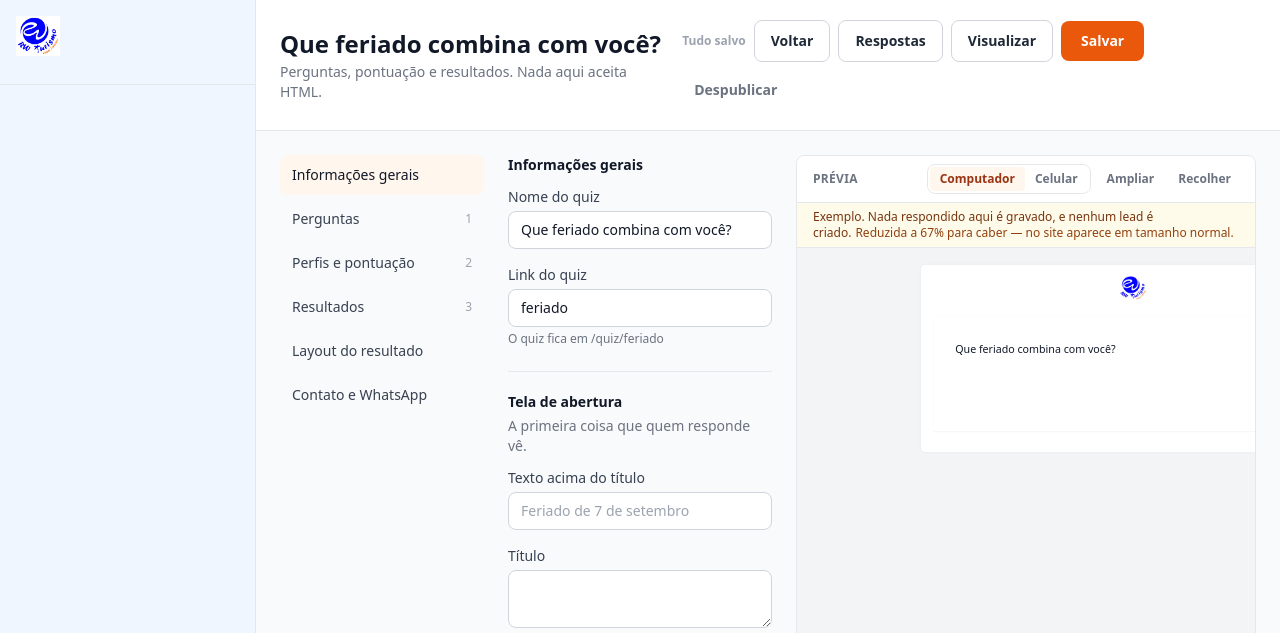
Test case: publicação › quiz publicado com edição pendente avisa que salvar vai ao ar
Expected: the button "Informações gerais" is shown, [280,155,484,195]
Expected: the text "vão ao ar imediatamente" is not shown
Replace the text in the field labelled "Nome do quiz" with "outro" at [640, 230], box [508,211,772,249]
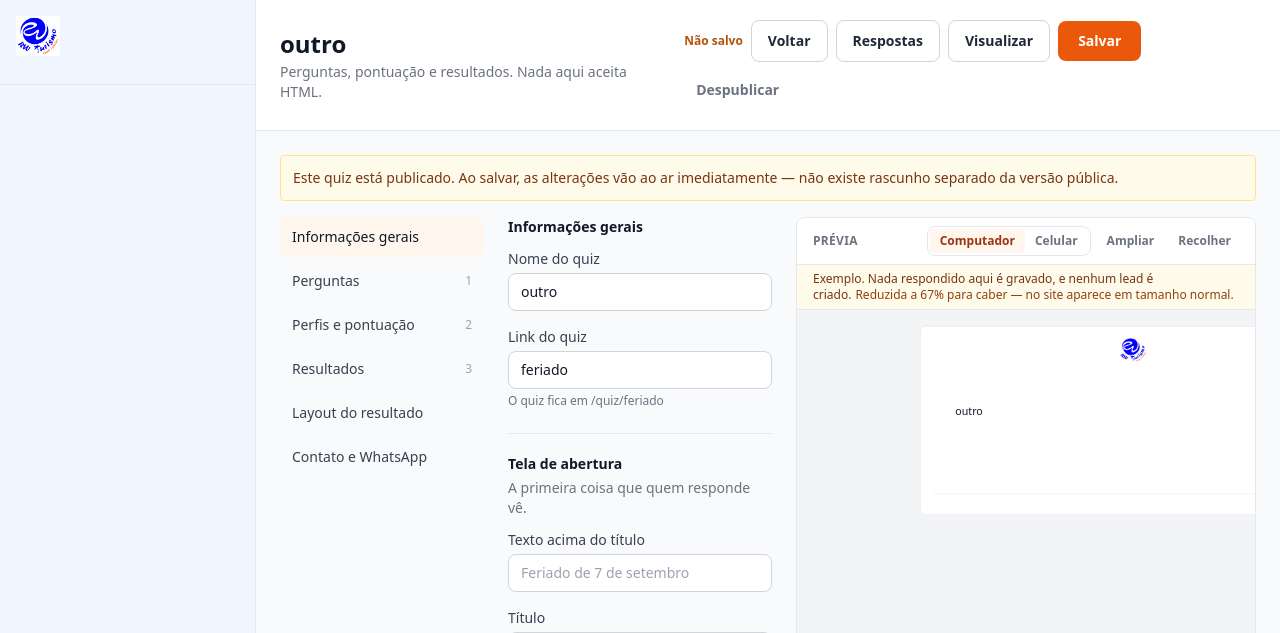
Expected: the text "vão ao ar imediatamente" is shown, [293,168,1118,187]
